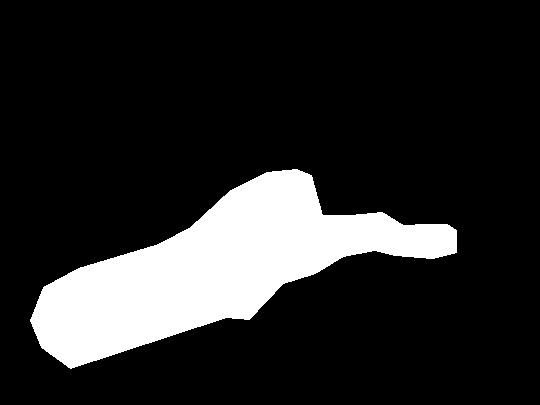Fire: (147, 165, 459, 311)
